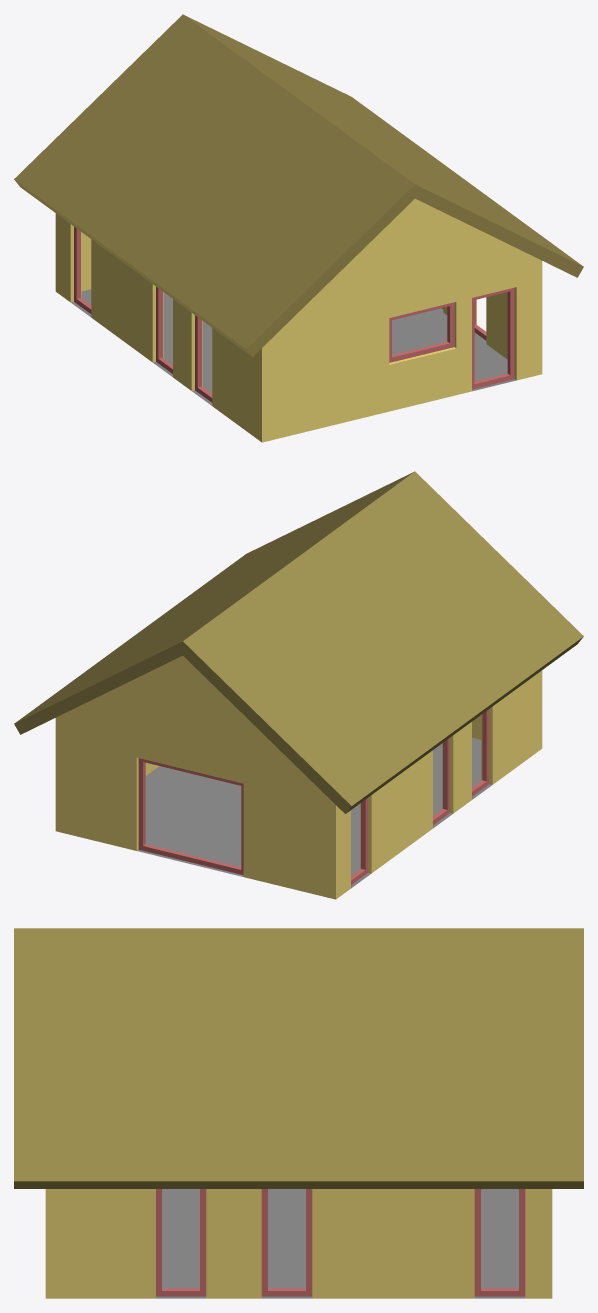
File: result.glb
3 renders of one model, top to bottom at view 1: azimuth 30°, elevation 25°; view 2: azimuth 150°, elevation 25°; view 3: azimuth 270°, elevation 25°, orthographic. The views are drawn at different scales.
Parts seen in each view (by area): view 1: b4417247-f33c-4b9f-b737-8224d66908f1__undefined (×2), 991e3e55-37da-4ffd-acf3-167a35bb2bf6__undefined, ca62e28e-15fd-4679-903e-67b29a4b16ba__Plane_10, 2468f830-9450-4b62-a32b-726c8d96e51c__Box, 121ef046-7beb-426b-8cc2-d2a79a37bab7__Box_3, c3901c07-e14e-48a2-a205-740bc0df2667__Box_12, c2516b02-6210-4f18-86f1-b6271705cffa__Box_18, 1ac9f4cf-4b2f-47ec-b7ff-2967c7226d14__Box_15; view 2: b4417247-f33c-4b9f-b737-8224d66908f1__undefined (×2), 991e3e55-37da-4ffd-acf3-167a35bb2bf6__undefined, ca62e28e-15fd-4679-903e-67b29a4b16ba__Plane_10, a5ccddc7-fef9-4bd4-802b-726004bf545f__Box_9, c3901c07-e14e-48a2-a205-740bc0df2667__Box_12, c2516b02-6210-4f18-86f1-b6271705cffa__Box_18, 1ac9f4cf-4b2f-47ec-b7ff-2967c7226d14__Box_15; view 3: b4417247-f33c-4b9f-b737-8224d66908f1__undefined, 991e3e55-37da-4ffd-acf3-167a35bb2bf6__undefined, ca62e28e-15fd-4679-903e-67b29a4b16ba__Plane_10, c94108fa-05f3-4558-b9eb-ebf93ecc812e__Box_24, ed8f4b24-1733-4c85-8b64-438d1dbe02dd__Box_27, 659d0820-1eca-4b48-9fa1-15199debfb8a__Box_21.
Boxes of the visible parts, x1,y1,x2,y2 form: b4417247-f33c-4b9f-b737-8224d66908f1__undefined (×2): [14, 14, 583, 356]; 991e3e55-37da-4ffd-acf3-167a35bb2bf6__undefined: [55, 198, 542, 442]; ca62e28e-15fd-4679-903e-67b29a4b16ba__Plane_10: [71, 289, 516, 405]; 2468f830-9450-4b62-a32b-726c8d96e51c__Box: [472, 287, 514, 389]; 121ef046-7beb-426b-8cc2-d2a79a37bab7__Box_3: [389, 302, 454, 362]; c3901c07-e14e-48a2-a205-740bc0df2667__Box_12: [195, 315, 212, 402]; c2516b02-6210-4f18-86f1-b6271705cffa__Box_18: [74, 227, 91, 313]; 1ac9f4cf-4b2f-47ec-b7ff-2967c7226d14__Box_15: [156, 287, 172, 373]; b4417247-f33c-4b9f-b737-8224d66908f1__undefined (×2): [14, 471, 583, 813]; 991e3e55-37da-4ffd-acf3-167a35bb2bf6__undefined: [55, 655, 542, 899]; ca62e28e-15fd-4679-903e-67b29a4b16ba__Plane_10: [137, 737, 491, 888]; a5ccddc7-fef9-4bd4-802b-726004bf545f__Box_9: [138, 758, 243, 874]; c3901c07-e14e-48a2-a205-740bc0df2667__Box_12: [472, 709, 489, 796]; c2516b02-6210-4f18-86f1-b6271705cffa__Box_18: [351, 798, 368, 884]; 1ac9f4cf-4b2f-47ec-b7ff-2967c7226d14__Box_15: [433, 738, 449, 824]; b4417247-f33c-4b9f-b737-8224d66908f1__undefined: [14, 928, 583, 1188]; 991e3e55-37da-4ffd-acf3-167a35bb2bf6__undefined: [45, 1189, 552, 1298]; ca62e28e-15fd-4679-903e-67b29a4b16ba__Plane_10: [156, 1189, 525, 1298]; c94108fa-05f3-4558-b9eb-ebf93ecc812e__Box_24: [261, 1189, 312, 1296]; ed8f4b24-1733-4c85-8b64-438d1dbe02dd__Box_27: [474, 1189, 525, 1296]; 659d0820-1eca-4b48-9fa1-15199debfb8a__Box_21: [156, 1189, 206, 1296].
Bounding box in the file's own units: 757 × 500 × 901.
